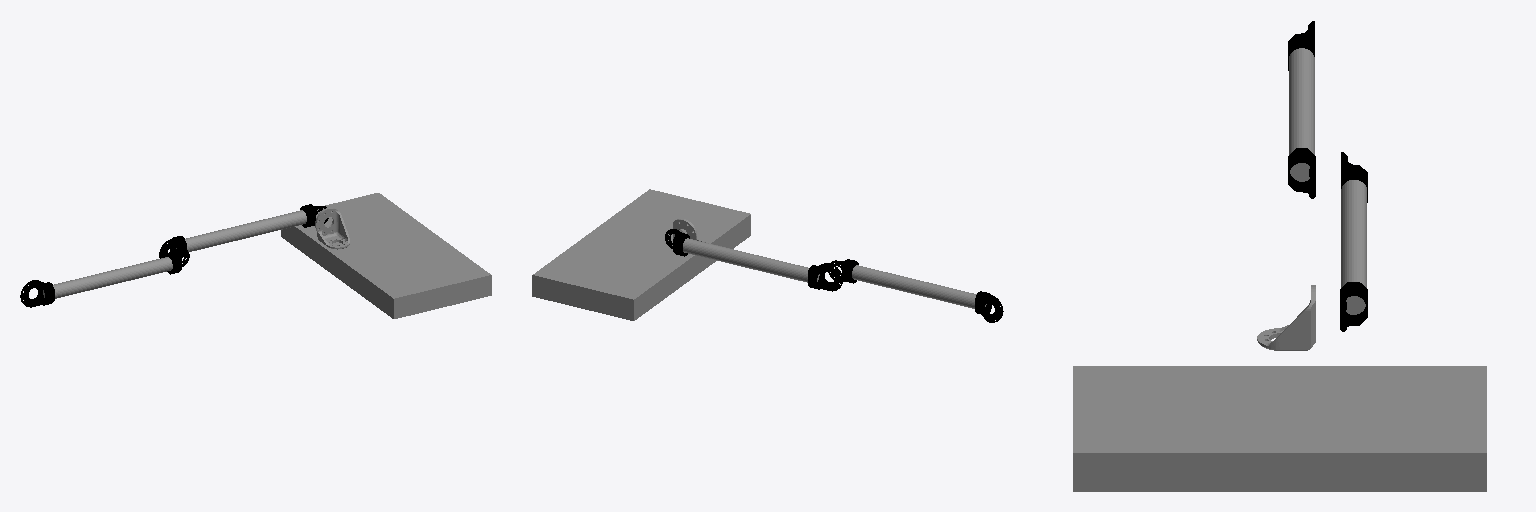
robot.urdf — arm_demo:
<?xml version="1.0" ?>
<!-- =================================================================================== -->
<!-- |    This document was autogenerated by xacro from x_demo.xacro                   | -->
<!-- |    EDITING THIS FILE BY HAND IS NOT RECOMMENDED                                 | -->
<!-- =================================================================================== -->
<robot name="arm_demo" xmlns:xacro="http://www.ros.org/wiki/xacro">
  <!-- *************************** XACRO MACROS *************************** -->
  <!-- ************************* ROBOT DEFINITION ************************* -->
  <link name="world"/>
  <joint name="world_joint" type="fixed">
    <origin rpy="0 0 0" xyz="0 0 0"/>
    <parent link="world"/>
    <child link="base"/>
  </joint>
  <!-- just for visualization: base post -->
  <link name="base">
    <visual>
      <origin rpy="0 0 0" xyz=".125 0 -.0254"/>
      <geometry>
        <box size="0.25 0.5 0.0508"/>
      </geometry>
      <material name="silver">
        <color rgba="0.6 0.6 0.6 1"/>
      </material>
    </visual>
    <collision>
      <origin rpy="0 0 0" xyz=".125 0 -.0254"/>
      <geometry>
        <box size="0.25 0.5 0.0508"/>
      </geometry>
    </collision>
    <inertial>
      <origin rpy="0 0 0" xyz=".125 0 -.0254"/>
      <mass value="1.0"/>
      <inertia ixx="1.0" ixy="0.0" ixz="0.0" iyy="1.0" iyz="0.0" izz="1.0"/>
    </inertial>
  </link>
  <joint name="base_base" type="fixed">
    <parent link="base"/>
    <child link="HEBI/base/INPUT_INTERFACE"/>
    <origin rpy="0 0 0" xyz="0 0 0"/>
  </joint>
  <link name="HEBI/base/INPUT_INTERFACE">
    <visual>
      <origin rpy="3.14157 0 0" xyz="0 0 0.0155"/>
      <geometry>
        <mesh filename="package://hebiros/meshes/x5.stl"/>
      </geometry>
      <material name="red">
        <color rgba=".82 0.06 0.06 1"/>
      </material>
    </visual>
    <collision>
      <origin rpy="3.14157 0 0" xyz="0 0 0.0155"/>
      <geometry>
        <mesh filename="package://hebiros/meshes/x5.stl"/>
      </geometry>
    </collision>
    <inertial>
      <origin rpy="3.14157 0 0" xyz="0 0 0.0155"/>
      <mass value="0.335"/>
      <inertia ixx="1.0" ixy="0.0" ixz="0.0" iyy="1.0" iyz="0.0" izz="1.0"/>
    </inertial>
  </link>
  <joint name="HEBI/base" type="revolute">
    <parent link="HEBI/base/INPUT_INTERFACE"/>
    <child link="shoulder_bracket/INPUT_INTERFACE"/>
    <origin rpy="0 0 0" xyz="0 0 0.031"/>
    <axis xyz="0 0 1"/>
    <limit effort="9.0" lower="-10.0" upper="10.0" velocity="2.208932"/>
    <dynamics damping="0.2" friction="0.2"/>
  </joint>
  <transmission name="HEBI/base/transmission">
    <type>transmission_interface/SimpleTransmission</type>
    <joint name="HEBI/base">
      <hardwareInterface>hardware_interface/EffortJointInterface</hardwareInterface>
    </joint>
    <actuator name="HEBI/base/actuator">
      <hardwareInterface>hardware_interface/EffortJointInterface</hardwareInterface>
      <mechanicalReduction>1</mechanicalReduction>
    </actuator>
  </transmission>
  <gazebo reference="HEBI/base/INPUT_INTERFACE">
    <selfCollide>true</selfCollide>
  </gazebo>
  <link name="shoulder_bracket/INPUT_INTERFACE">
    <visual>
      <origin rpy="1.57075 0 1.57075" xyz="0 0 0"/>
      <geometry>
        <mesh filename="package://hebiros/meshes/x_wrist.stl"/>
      </geometry>
      <material name="silver">
        <color rgba="0.6 0.6 0.6 1"/>
      </material>
    </visual>
    <collision>
      <origin rpy="1.57075 0 1.57075" xyz="0 0 0"/>
      <geometry>
        <mesh filename="package://hebiros/meshes/x_wrist.stl"/>
      </geometry>
    </collision>
    <inertial>
      <origin rpy="1.57075 0 1.57075" xyz="0 0 0"/>
      <mass value="0.1"/>
      <inertia ixx="1.0" ixy="0.0" ixz="0.0" iyy="1.0" iyz="0.0" izz="1.0"/>
    </inertial>
  </link>
  <joint name="shoulder_bracket/OUTPUT_INTERFACE" type="fixed">
    <parent link="shoulder_bracket/INPUT_INTERFACE"/>
    <child link="HEBI/shoulder/INPUT_INTERFACE"/>
    <!--    <origin xyz="0 .03685 .05715" rpy="-1.57075 0 3.14157"/> -->
    <origin rpy="-1.57075 0 0" xyz="0 .04235 .04015"/>
  </joint>
  <gazebo reference="shoulder_bracket/INPUT_INTERFACE">
    <selfCollide>true</selfCollide>
  </gazebo>
  <link name="HEBI/shoulder/INPUT_INTERFACE">
    <visual>
      <origin rpy="3.14157 0 0" xyz="0 0 0.0155"/>
      <geometry>
        <mesh filename="package://hebiros/meshes/x5.stl"/>
      </geometry>
      <material name="red">
        <color rgba=".82 0.06 0.06 1"/>
      </material>
    </visual>
    <collision>
      <origin rpy="3.14157 0 0" xyz="0 0 0.0155"/>
      <geometry>
        <mesh filename="package://hebiros/meshes/x5.stl"/>
      </geometry>
    </collision>
    <inertial>
      <origin rpy="3.14157 0 0" xyz="0 0 0.0155"/>
      <mass value="0.335"/>
      <inertia ixx="1.0" ixy="0.0" ixz="0.0" iyy="1.0" iyz="0.0" izz="1.0"/>
    </inertial>
  </link>
  <joint name="HEBI/shoulder" type="revolute">
    <parent link="HEBI/shoulder/INPUT_INTERFACE"/>
    <child link="shoulder_elbow/INPUT_INTERFACE"/>
    <origin rpy="0 0 0" xyz="0 0 0.031"/>
    <axis xyz="0 0 1"/>
    <limit effort="9.0" lower="-10.0" upper="10.0" velocity="2.208932"/>
    <dynamics damping="0.2" friction="0.2"/>
  </joint>
  <transmission name="HEBI/shoulder/transmission">
    <type>transmission_interface/SimpleTransmission</type>
    <joint name="HEBI/shoulder">
      <hardwareInterface>hardware_interface/EffortJointInterface</hardwareInterface>
    </joint>
    <actuator name="HEBI/shoulder/actuator">
      <hardwareInterface>hardware_interface/EffortJointInterface</hardwareInterface>
      <mechanicalReduction>1</mechanicalReduction>
    </actuator>
  </transmission>
  <gazebo reference="HEBI/shoulder/INPUT_INTERFACE">
    <selfCollide>true</selfCollide>
  </gazebo>
  <link name="shoulder_elbow/INPUT_INTERFACE">
    <visual>
      <origin rpy="0 0 3.14157" xyz="-.04 .03 .0075"/>
      <geometry>
        <mesh filename="package://hebiros/meshes/x_output_bracket.stl"/>
      </geometry>
      <material name="black">
        <color rgba="0 0 0 1"/>
      </material>
    </visual>
    <visual>
      <origin rpy="0 1.57075 0" xyz="-0.1904 0 .016075"/>
      <geometry>
        <cylinder length="0.33" radius=".015875"/>
      </geometry>
      <material name="silver">
        <color rgba="0.6 0.6 0.6 1"/>
      </material>
    </visual>
    <visual>
      <origin rpy="1.57075 0 -1.57075" xyz="-0.3554 -.075 -.0125"/>
      <geometry>
        <mesh filename="package://hebiros/meshes/x_mounting_bracket.stl"/>
      </geometry>
      <material name="black">
        <color rgba="0 0 0 1"/>
      </material>
    </visual>
    <collision>
      <origin rpy="0 0 3.14157" xyz="-.04 .03 .0075"/>
      <geometry>
        <mesh filename="package://hebiros/meshes/x_output_bracket.stl"/>
      </geometry>
    </collision>
    <collision>
      <origin rpy="0 1.57075 0" xyz="-0.1904 0 .016075"/>
      <geometry>
        <cylinder length="0.33" radius=".015875"/>
      </geometry>
    </collision>
    <collision>
      <origin rpy="1.57075 0 -1.57075" xyz="-0.3554 -.075 -.0125"/>
      <geometry>
        <mesh filename="package://hebiros/meshes/x_mounting_bracket.stl"/>
      </geometry>
    </collision>
    <inertial>
      <origin rpy="0 0 3.14157" xyz="-.04 .03 .0075"/>
      <mass value="0.01"/>
      <inertia ixx="1.0" ixy="0.0" ixz="0.0" iyy="1.0" iyz="0.0" izz="1.0"/>
    </inertial>
    <inertial>
      <origin rpy="0 1.57075 0" xyz="-0.1904 0 .016075"/>
      <mass value="0.38"/>
      <inertia ixx="1.0" ixy="0.0" ixz="0.0" iyy="1.0" iyz="0.0" izz="1.0"/>
    </inertial>
    <inertial>
      <origin rpy="1.57075 0 -1.57075" xyz="-0.3554 -.075 -.0125"/>
      <mass value="0.01"/>
      <inertia ixx="1.0" ixy="0.0" ixz="0.0" iyy="1.0" iyz="0.0" izz="1.0"/>
    </inertial>
  </link>
  <joint name="shoulder_elbow/OUTPUT_JOINT" type="fixed">
    <parent link="shoulder_elbow/INPUT_INTERFACE"/>
    <child link="HEBI/elbow/INPUT_INTERFACE"/>
    <origin rpy="3.14157 0 0" xyz="-0.38 0 0"/>
  </joint>
  <gazebo reference="shoulder_elbow/INPUT_INTERFACE">
    <selfCollide>true</selfCollide>
  </gazebo>
  <link name="HEBI/elbow/INPUT_INTERFACE">
    <visual>
      <origin rpy="3.14157 0 0" xyz="0 0 0.0155"/>
      <geometry>
        <mesh filename="package://hebiros/meshes/x5.stl"/>
      </geometry>
      <material name="red">
        <color rgba=".82 0.06 0.06 1"/>
      </material>
    </visual>
    <collision>
      <origin rpy="3.14157 0 0" xyz="0 0 0.0155"/>
      <geometry>
        <mesh filename="package://hebiros/meshes/x5.stl"/>
      </geometry>
    </collision>
    <inertial>
      <origin rpy="3.14157 0 0" xyz="0 0 0.0155"/>
      <mass value="0.335"/>
      <inertia ixx="1.0" ixy="0.0" ixz="0.0" iyy="1.0" iyz="0.0" izz="1.0"/>
    </inertial>
  </link>
  <joint name="HEBI/elbow" type="revolute">
    <parent link="HEBI/elbow/INPUT_INTERFACE"/>
    <child link="elbow_end/INPUT_INTERFACE"/>
    <origin rpy="0 0 0" xyz="0 0 0.031"/>
    <axis xyz="0 0 1"/>
    <limit effort="9.0" lower="-10.0" upper="10.0" velocity="2.208932"/>
    <dynamics damping="0.2" friction="0.2"/>
  </joint>
  <transmission name="HEBI/elbow/transmission">
    <type>transmission_interface/SimpleTransmission</type>
    <joint name="HEBI/elbow">
      <hardwareInterface>hardware_interface/EffortJointInterface</hardwareInterface>
    </joint>
    <actuator name="HEBI/elbow/actuator">
      <hardwareInterface>hardware_interface/EffortJointInterface</hardwareInterface>
      <mechanicalReduction>1</mechanicalReduction>
    </actuator>
  </transmission>
  <gazebo reference="HEBI/elbow/INPUT_INTERFACE">
    <selfCollide>true</selfCollide>
  </gazebo>
  <link name="elbow_end/INPUT_INTERFACE">
    <visual>
      <origin rpy="0 0 3.14157" xyz="-.04 .03 .0075"/>
      <geometry>
        <mesh filename="package://hebiros/meshes/x_output_bracket.stl"/>
      </geometry>
      <material name="black">
        <color rgba="0 0 0 1"/>
      </material>
    </visual>
    <visual>
      <origin rpy="0 1.57075 0" xyz="-0.1879 0 .016075"/>
      <geometry>
        <cylinder length="0.325" radius=".015875"/>
      </geometry>
      <material name="silver">
        <color rgba="0.6 0.6 0.6 1"/>
      </material>
    </visual>
    <visual>
      <origin rpy="1.57075 0 -1.57075" xyz="-0.3504 -.075 -.0125"/>
      <geometry>
        <mesh filename="package://hebiros/meshes/x_mounting_bracket.stl"/>
      </geometry>
      <material name="black">
        <color rgba="0 0 0 1"/>
      </material>
    </visual>
    <collision>
      <origin rpy="0 0 3.14157" xyz="-.04 .03 .0075"/>
      <geometry>
        <mesh filename="package://hebiros/meshes/x_output_bracket.stl"/>
      </geometry>
    </collision>
    <collision>
      <origin rpy="0 1.57075 0" xyz="-0.1879 0 .016075"/>
      <geometry>
        <cylinder length="0.325" radius=".015875"/>
      </geometry>
    </collision>
    <collision>
      <origin rpy="1.57075 0 -1.57075" xyz="-0.3504 -.075 -.0125"/>
      <geometry>
        <mesh filename="package://hebiros/meshes/x_mounting_bracket.stl"/>
      </geometry>
    </collision>
    <inertial>
      <origin rpy="0 0 3.14157" xyz="-.04 .03 .0075"/>
      <mass value="0.01"/>
      <inertia ixx="1.0" ixy="0.0" ixz="0.0" iyy="1.0" iyz="0.0" izz="1.0"/>
    </inertial>
    <inertial>
      <origin rpy="0 1.57075 0" xyz="-0.1879 0 .016075"/>
      <mass value="0.375"/>
      <inertia ixx="1.0" ixy="0.0" ixz="0.0" iyy="1.0" iyz="0.0" izz="1.0"/>
    </inertial>
    <inertial>
      <origin rpy="1.57075 0 -1.57075" xyz="-0.3504 -.075 -.0125"/>
      <mass value="0.01"/>
      <inertia ixx="1.0" ixy="0.0" ixz="0.0" iyy="1.0" iyz="0.0" izz="1.0"/>
    </inertial>
  </link>
  <joint name="elbow_end/OUTPUT_JOINT" type="fixed">
    <parent link="elbow_end/INPUT_INTERFACE"/>
    <child link="end_effector/INPUT_INTERFACE"/>
    <origin rpy="3.14157 0 0" xyz="-0.375 0 0"/>
  </joint>
  <gazebo reference="elbow_end/INPUT_INTERFACE">
    <selfCollide>true</selfCollide>
  </gazebo>
  <!-- end link -->
  <link name="end_effector/INPUT_INTERFACE">
  </link>
  <gazebo reference="base">
    <selfCollide>true</selfCollide>
  </gazebo>
  <gazebo>
    <plugin filename="libgazebo_ros_control.so" name="gazebo_ros_control">
      <robotNamespace>/hebiros/x_demo</robotNamespace>
    </plugin>
  </gazebo>
</robot>

--- Render facts (derived) ---
3 views of the same robot in one strip: view 1: azimuth 30°, elevation 25°; view 2: azimuth 150°, elevation 25°; view 3: azimuth 270°, elevation 25° (orthographic).
Model arm_demo with 9 links and 8 joints (3 revolute, 5 fixed), rooted at world, posed all joints at 0.
Links seen in each view (by area): view 1: base, elbow_end/INPUT_INTERFACE, shoulder_elbow/INPUT_INTERFACE, shoulder_bracket/INPUT_INTERFACE; view 2: base, shoulder_elbow/INPUT_INTERFACE, elbow_end/INPUT_INTERFACE; view 3: base, shoulder_elbow/INPUT_INTERFACE, elbow_end/INPUT_INTERFACE, shoulder_bracket/INPUT_INTERFACE.
Boxes of the visible links, box(x1,y1,x2,y2) form: base: box(281, 193, 491, 318); elbow_end/INPUT_INTERFACE: box(20, 248, 189, 307); shoulder_elbow/INPUT_INTERFACE: box(159, 204, 328, 258); shoulder_bracket/INPUT_INTERFACE: box(315, 208, 349, 249); base: box(532, 189, 750, 320); shoulder_elbow/INPUT_INTERFACE: box(665, 229, 842, 291); elbow_end/INPUT_INTERFACE: box(828, 259, 1003, 322); base: box(1073, 366, 1486, 491); shoulder_elbow/INPUT_INTERFACE: box(1340, 152, 1367, 331); elbow_end/INPUT_INTERFACE: box(1288, 21, 1315, 198); shoulder_bracket/INPUT_INTERFACE: box(1257, 285, 1315, 350).
Size in the robot's own frame: 1.04 by 0.5 by 0.1547 metres.
5 mesh visuals loaded from 4 distinct referenced files (3 binary STL); not drawn: 3 (reference not matched to a file when rendering).